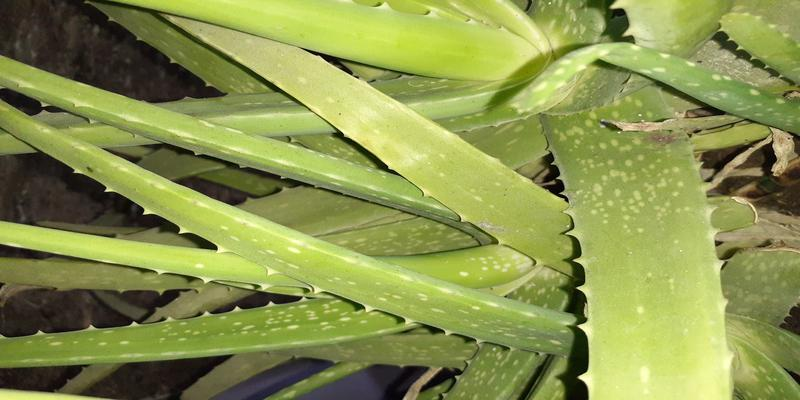Aloevera: (145, 23, 782, 359)
